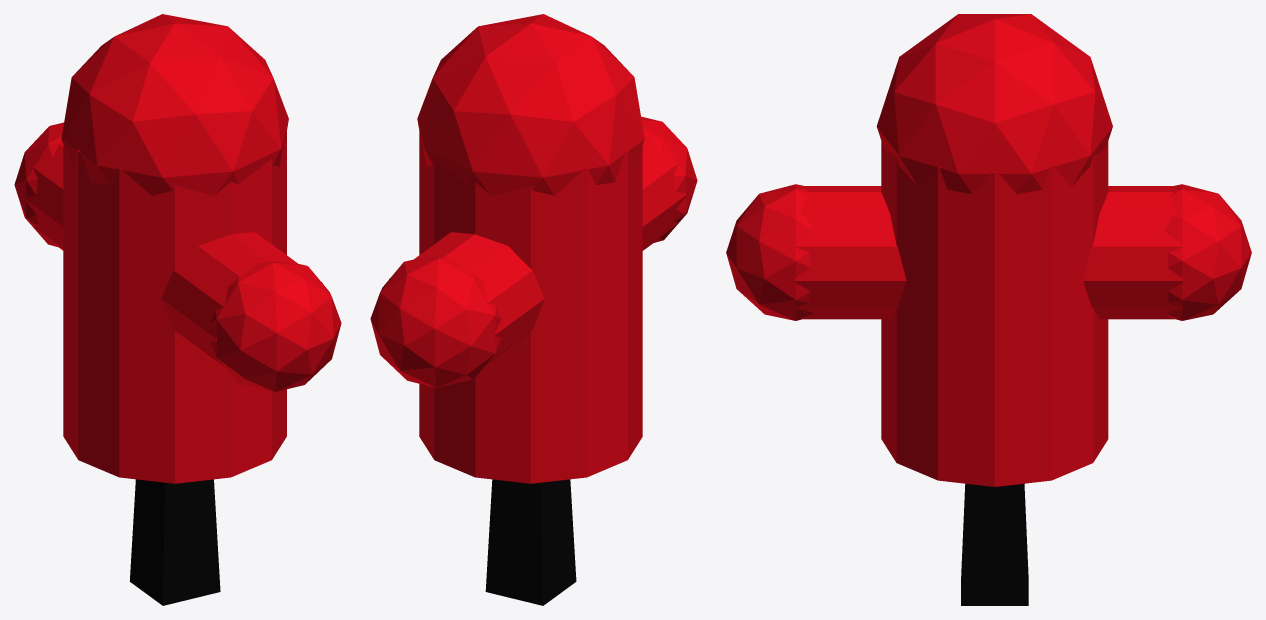
File: гидрант.fbx
3 views of the same model, side by side, from view 1: azimuth 30°, elevation 25°; view 2: azimuth 150°, elevation 25°; view 3: azimuth 270°, elevation 25° (orthographic).
Visible parts, largest first — view 1: Cylinder, Icosphere, Icosphere.001, Cube, Cylinder.001, Cylinder.002, Icosphere.002; view 2: Cylinder, Icosphere, Icosphere.002, Cube, Cylinder.002, Cylinder.001, Icosphere.001; view 3: Cylinder, Icosphere, Cylinder.001, Cylinder.002, Icosphere.001, Icosphere.002, Cube.
Part boxes in pixels (<box>): Cylinder: <box>63,127,286,483</box>; Icosphere: <box>61,14,288,195</box>; Icosphere.001: <box>210,261,341,391</box>; Cube: <box>129,479,220,605</box>; Cylinder.001: <box>161,232,322,370</box>; Cylinder.002: <box>25,142,63,250</box>; Icosphere.002: <box>14,122,63,246</box>; Cylinder: <box>419,127,642,483</box>; Icosphere: <box>417,14,644,195</box>; Icosphere.002: <box>370,256,501,387</box>; Cube: <box>485,479,576,605</box>; Cylinder.002: <box>389,232,544,366</box>; Cylinder.001: <box>642,136,686,250</box>; Icosphere.001: <box>641,116,697,242</box>; Cylinder: <box>881,141,1108,486</box>; Icosphere: <box>876,14,1112,194</box>; Cylinder.001: <box>795,186,906,319</box>; Cylinder.002: <box>1083,186,1182,319</box>; Icosphere.001: <box>726,184,813,320</box>; Icosphere.002: <box>1164,184,1251,320</box>; Cube: <box>961,483,1028,605</box>.
Size of the model in its own units: 122 by 339 by 282.
